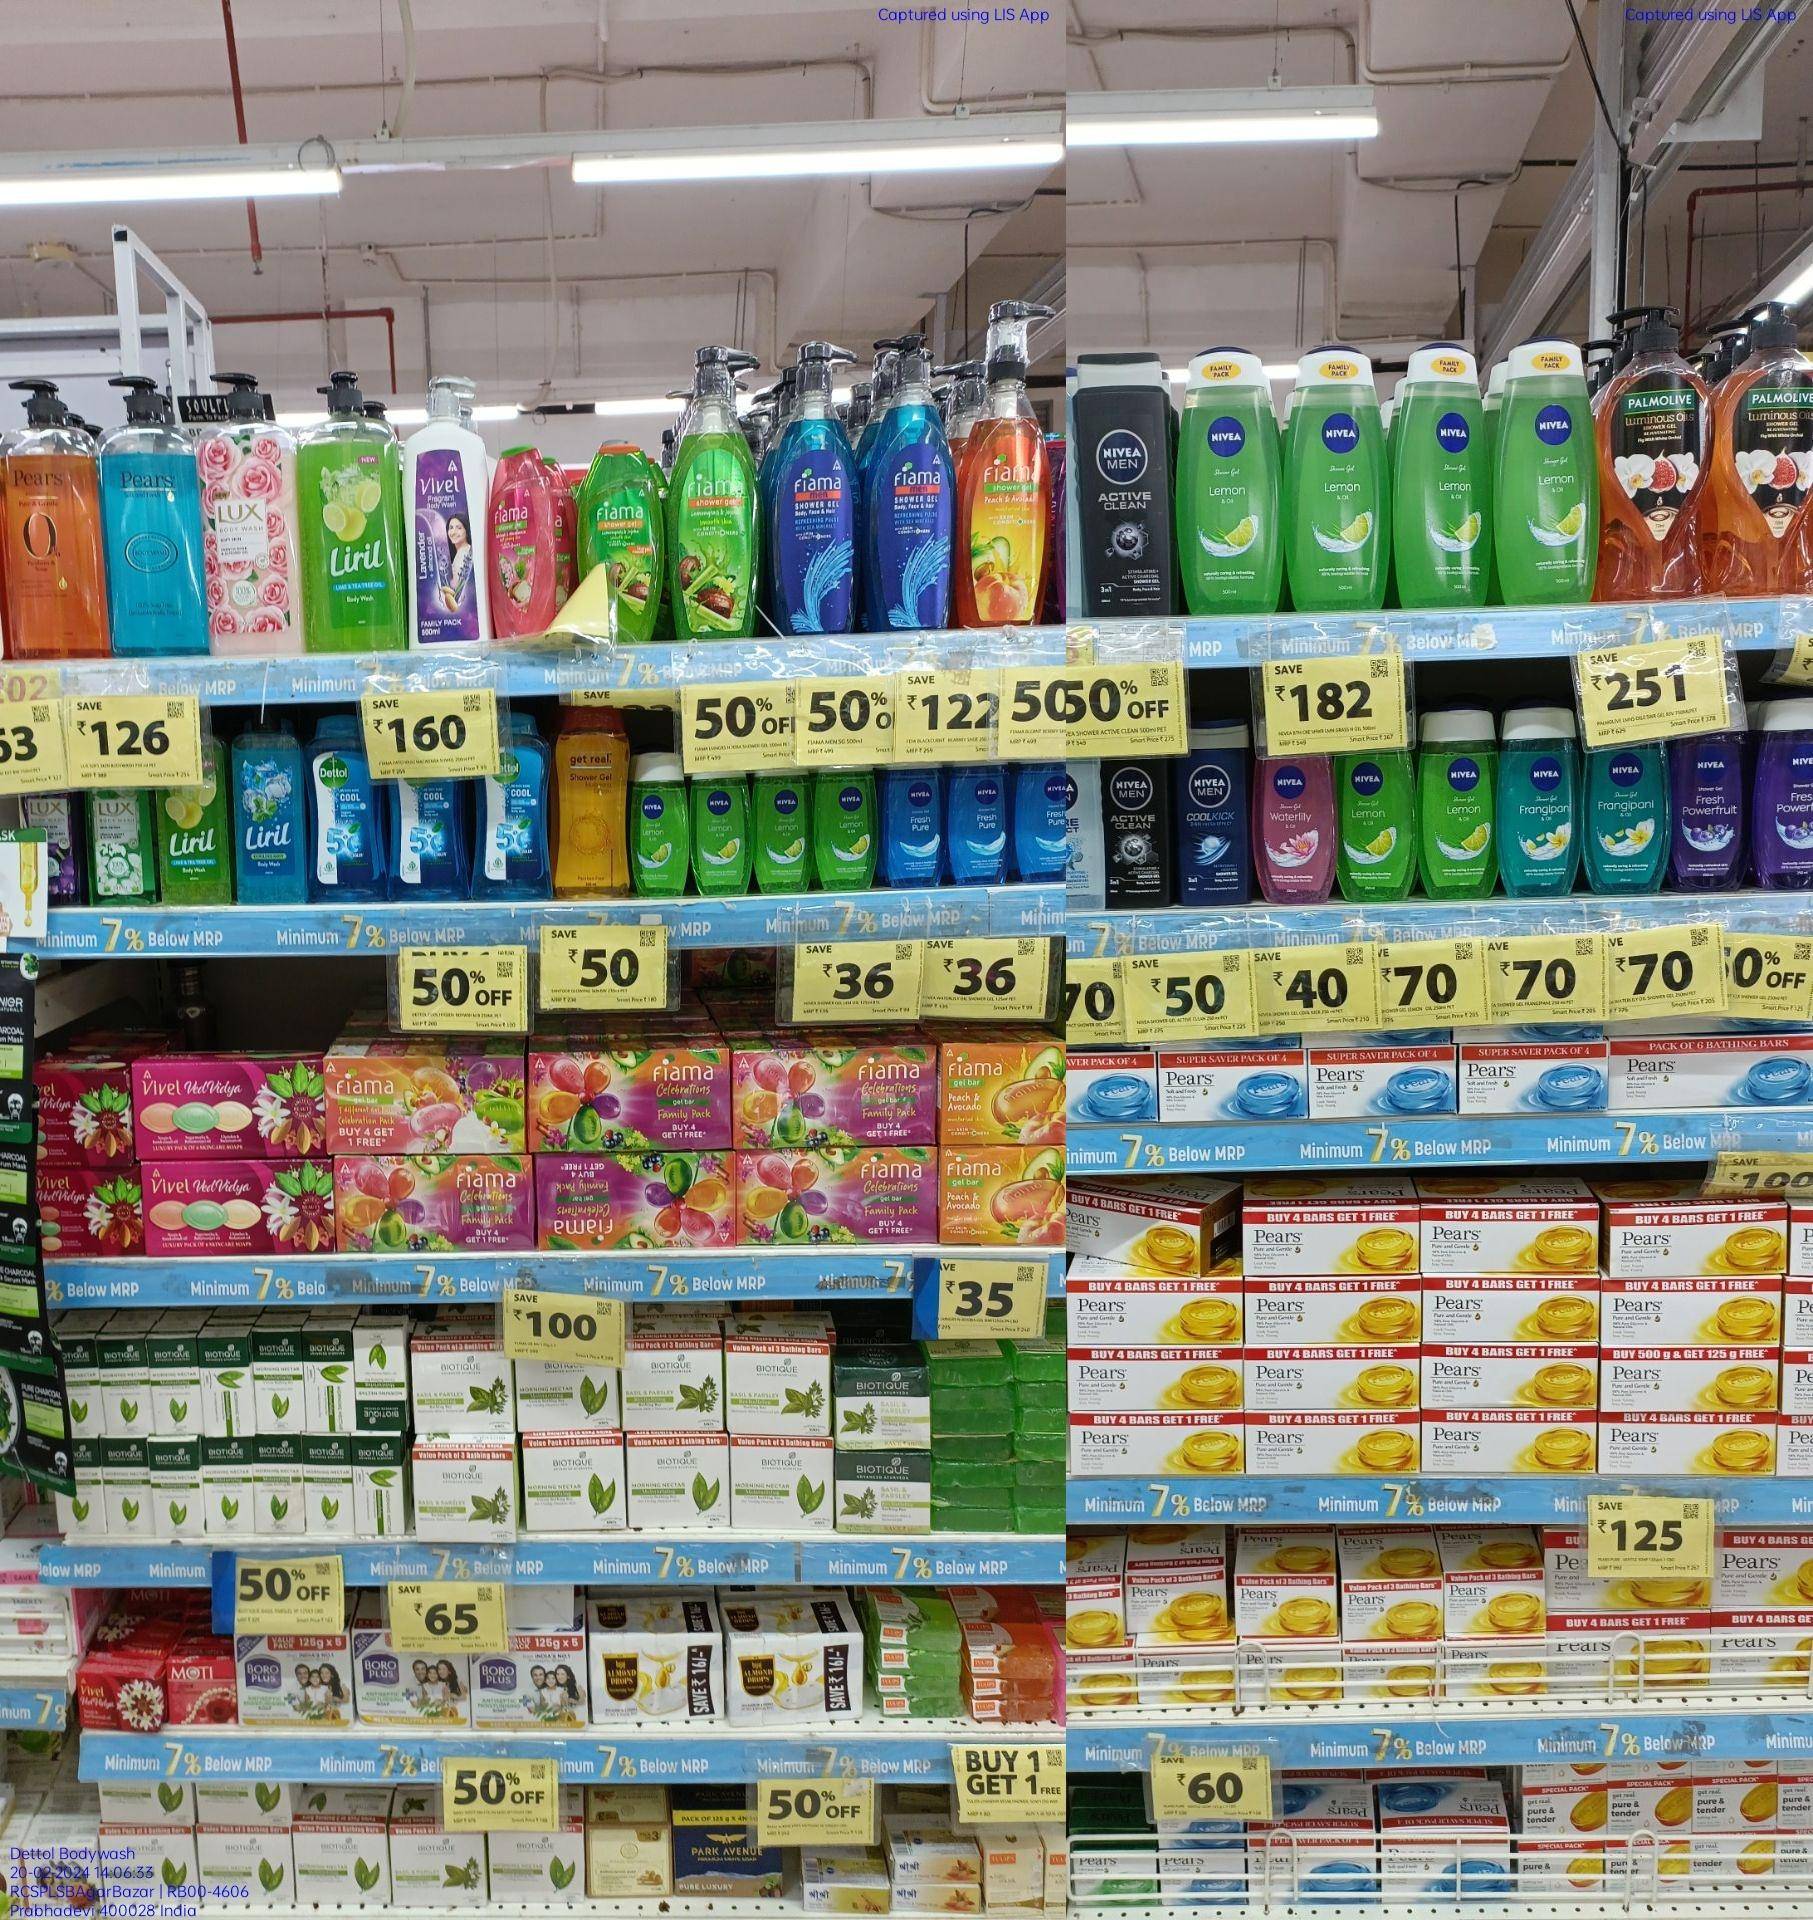Dettol_Bodywash_Cool: (307, 710, 375, 903), (472, 765, 549, 901), (390, 779, 472, 903)
Fiama_Shower_Gel_Lemongrass_and_Jojoba_250ML: (579, 441, 663, 642)
Fiama_Shower_Gel_Patchouli_and_Macadamia_250ML: (491, 443, 555, 630)
Get_Real_Shower_Gel_Moisturising_Glycerin_300ML: (554, 700, 630, 896)
Liril_Cooling_Mint_Body_Wash_250ML: (232, 707, 300, 903)
Liril_Lime_and_Tea_Tree_Oil_Body_Wash_250ML: (157, 768, 228, 903)
Lux_Body_Wash_Skin_Detox_Freesia_Scent_and_Alove_Vera_245ML: (87, 784, 152, 905)
Nivea_Shower_Gel_Frangipani_and_Oil_250ML: (1496, 705, 1578, 896), (1581, 748, 1668, 889)
Nivea_Shower_Gel_Fresh_Powerfruit_250ML: (1672, 727, 1745, 886), (1755, 698, 1813, 891)
Nivea_Shower_Gel_Lemon_and_Oil_250ML: (1174, 342, 1283, 610), (1396, 337, 1494, 606), (1501, 331, 1600, 600), (1292, 344, 1389, 606), (1418, 702, 1493, 898), (1338, 756, 1414, 905), (813, 763, 878, 891), (751, 768, 808, 894), (688, 773, 748, 891), (636, 755, 683, 896)
Nivea_Shower_Gel_Waterlily_and_Oil_250ML: (1254, 762, 1332, 901)
